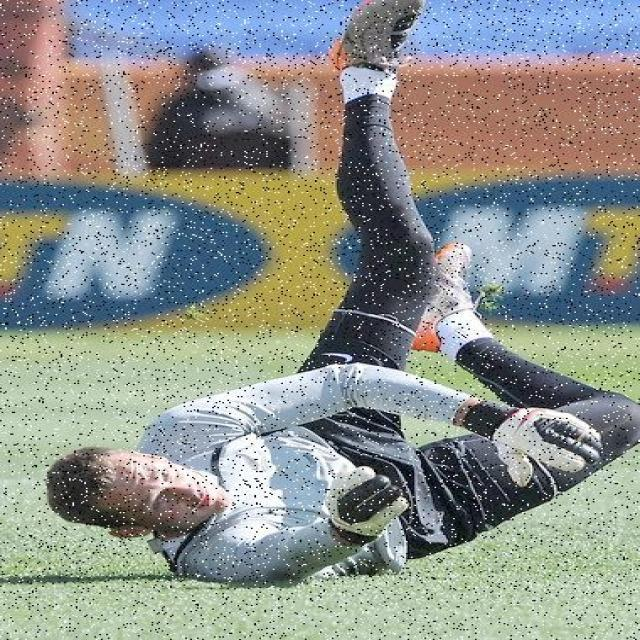fall: (49, 165, 638, 596)
